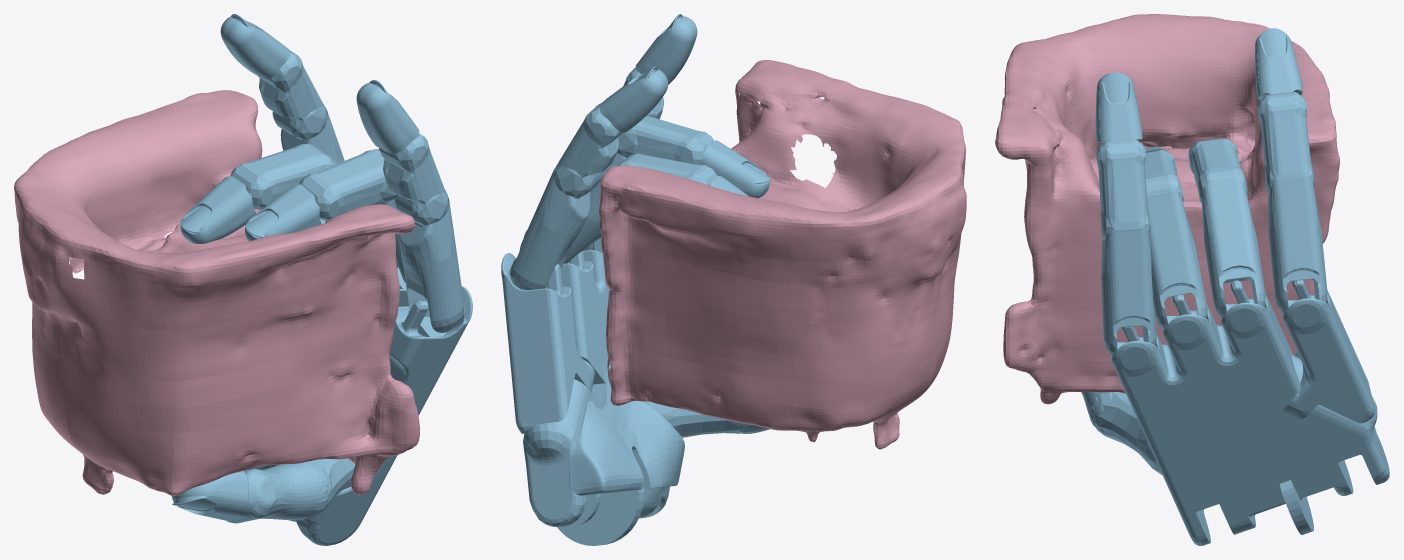
The picture shows the model from 3 angles, left to right: view 1: azimuth 30°, elevation 25°; view 2: azimuth 150°, elevation 25°; view 3: azimuth 270°, elevation 25°; orthographic projection. The views are drawn at different scales.
Parts seen in each view (by area): view 1: world, hand_isaac_q; view 2: world, hand_isaac_q; view 3: hand_isaac_q, world.
Part boxes in pixels (x1=…): world: x1=14, y1=90, x2=419, y2=496; hand_isaac_q: x1=171, y1=14, x2=472, y2=545; world: x1=599, y1=60, x2=966, y2=449; hand_isaac_q: x1=501, y1=14, x2=770, y2=545; hand_isaac_q: x1=1081, y1=28, x2=1389, y2=545; world: x1=995, y1=14, x2=1339, y2=404.
Size of the model in its own units: 0.1704 by 0.2036 by 0.149.
